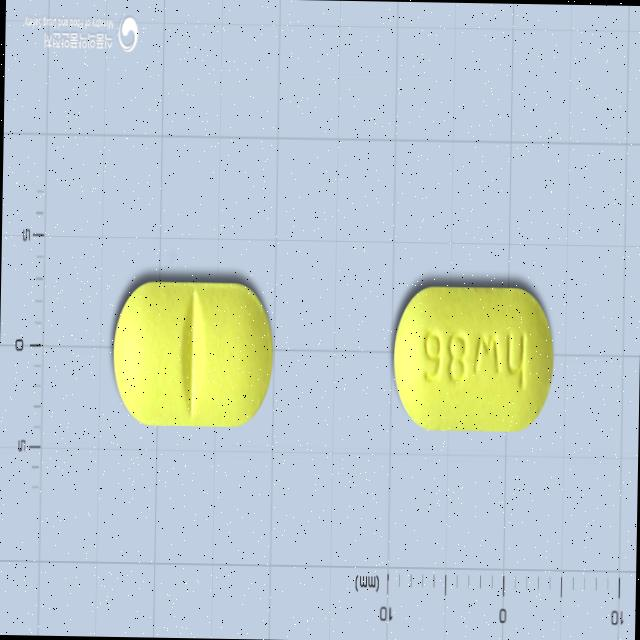Clarithin: (106, 273, 276, 433), (388, 277, 557, 437)
